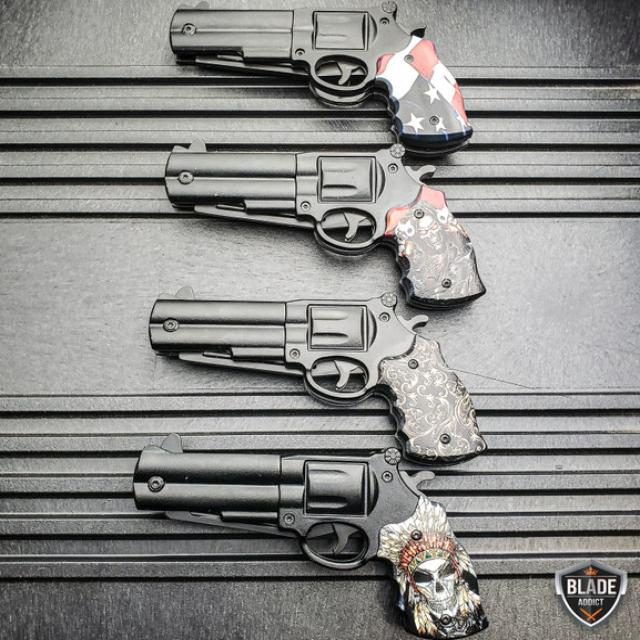HandGun: (132, 444, 486, 636), (148, 297, 484, 463), (165, 141, 486, 307), (170, 2, 466, 148)
